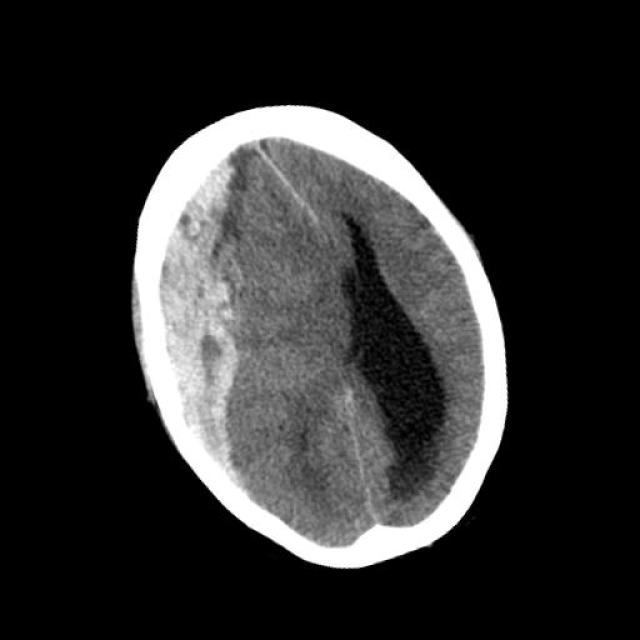Subdural: (63, 140, 324, 515)
